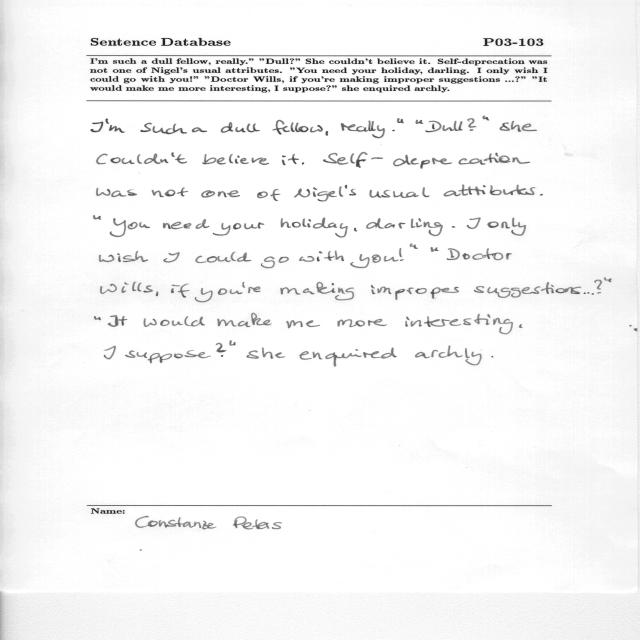word: (323, 152, 530, 169), (406, 314, 523, 334), (299, 347, 397, 367), (366, 218, 443, 236), (281, 218, 348, 238), (415, 346, 482, 366), (280, 282, 354, 300), (371, 285, 459, 300), (474, 282, 554, 298), (96, 152, 187, 165), (125, 350, 210, 363), (294, 185, 356, 202), (444, 185, 536, 196), (447, 249, 512, 261), (272, 120, 323, 135), (110, 218, 150, 237), (218, 313, 272, 327), (341, 121, 385, 138), (202, 154, 269, 165), (213, 222, 264, 236), (488, 218, 526, 236), (351, 254, 399, 268), (195, 288, 243, 302), (144, 316, 205, 327), (370, 187, 430, 198), (101, 282, 153, 294), (196, 252, 252, 263), (100, 251, 149, 262), (140, 123, 187, 134), (299, 251, 344, 262), (163, 219, 209, 229), (247, 347, 285, 359), (221, 122, 260, 133), (426, 121, 463, 132), (500, 121, 537, 132), (337, 319, 387, 327), (97, 188, 137, 197), (152, 188, 188, 198), (261, 257, 289, 269), (201, 190, 240, 198), (106, 118, 125, 133), (258, 189, 281, 201), (286, 320, 320, 328), (171, 284, 189, 298), (556, 287, 590, 294), (108, 315, 127, 327), (242, 282, 261, 293), (282, 154, 299, 165), (163, 252, 180, 263), (467, 217, 481, 229), (104, 346, 116, 359), (216, 343, 227, 357), (592, 280, 602, 295), (91, 122, 103, 132), (468, 118, 477, 131), (192, 128, 207, 133), (399, 248, 404, 261), (629, 325, 638, 332), (430, 247, 439, 252), (93, 215, 101, 220), (410, 244, 418, 249), (397, 118, 404, 123), (482, 116, 489, 121), (230, 341, 236, 346), (416, 120, 423, 124), (604, 278, 611, 282), (94, 316, 101, 320), (156, 292, 159, 297), (354, 228, 357, 232), (326, 131, 328, 136), (452, 226, 455, 228), (302, 163, 304, 165), (392, 130, 395, 131), (540, 194, 543, 195), (492, 356, 494, 357)
